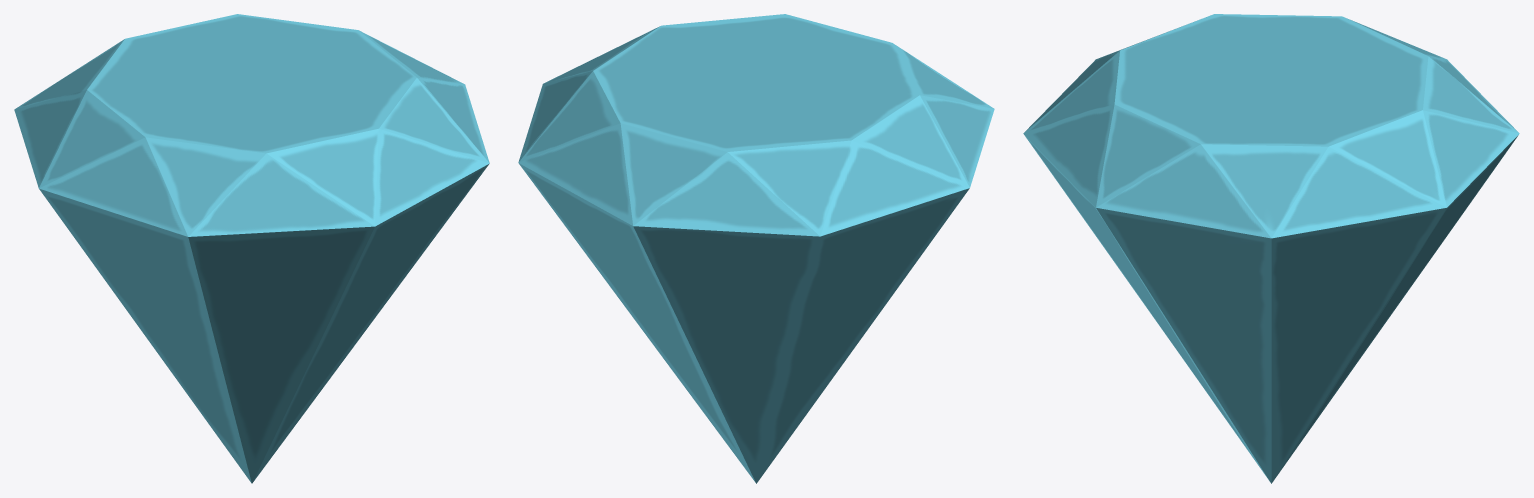
File: rock-diamond.glb
3 renders of one model, left to right at view 1: azimuth 30°, elevation 25°; view 2: azimuth 150°, elevation 25°; view 3: azimuth 270°, elevation 25°, orthographic.
Parts seen in each view (by area): view 1: Cone; view 2: Cone; view 3: Cone.
Boxes of the visible parts, x1=… form: Cone: x1=14, y1=14, x2=489, y2=483; Cone: x1=518, y1=14, x2=994, y2=483; Cone: x1=1023, y1=14, x2=1519, y2=483.
Bounding box in the file's own units: 2 × 1.79 × 2.
1 material, 1 textured.
